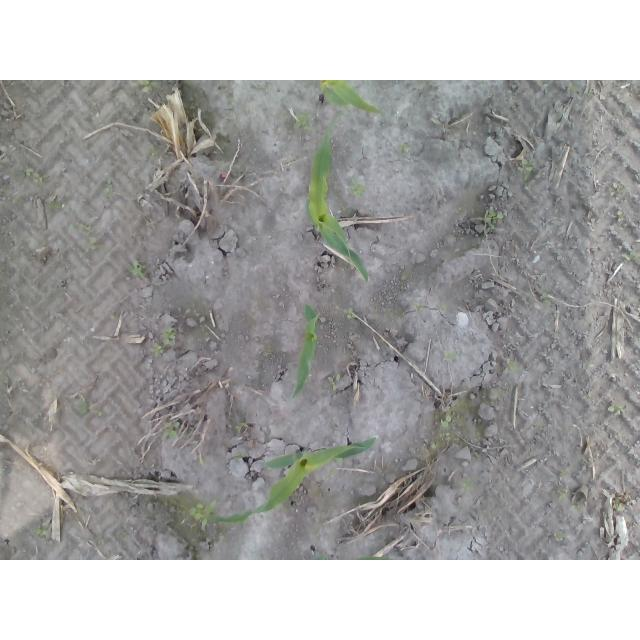Maize: (207, 439, 377, 526), (310, 121, 371, 283), (292, 302, 319, 404), (317, 81, 383, 116), (309, 548, 393, 561)
Weeds: (66, 223, 104, 253), (149, 325, 178, 356), (479, 208, 505, 241), (190, 500, 215, 528), (293, 109, 315, 132), (433, 416, 451, 443), (558, 464, 570, 502), (349, 175, 368, 198), (23, 166, 45, 185), (161, 422, 180, 442), (183, 306, 205, 323), (517, 159, 535, 177), (129, 262, 148, 279), (610, 181, 631, 195), (77, 397, 91, 418), (607, 404, 629, 417), (138, 80, 160, 92), (31, 526, 51, 539), (622, 249, 640, 263), (565, 81, 581, 96), (328, 372, 340, 392), (232, 420, 246, 435), (507, 357, 520, 372), (103, 178, 113, 195), (462, 478, 475, 490), (343, 308, 354, 321), (47, 201, 66, 208), (444, 350, 457, 360), (553, 531, 563, 544), (400, 142, 411, 153), (616, 210, 625, 223), (416, 303, 425, 314)
